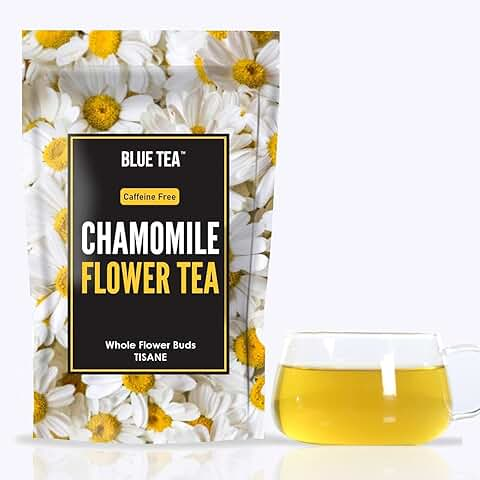Tea: (19, 32, 267, 440)
